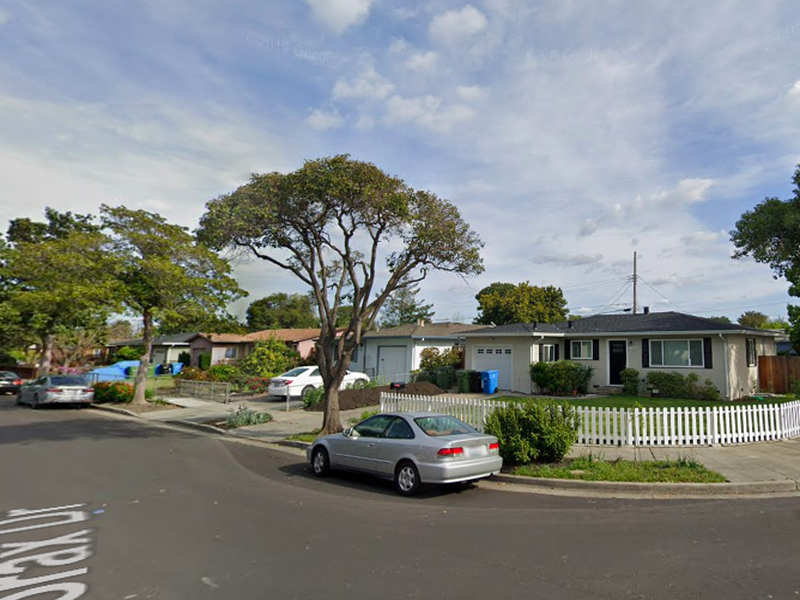tree: (193, 152, 485, 444), (84, 202, 249, 408)
